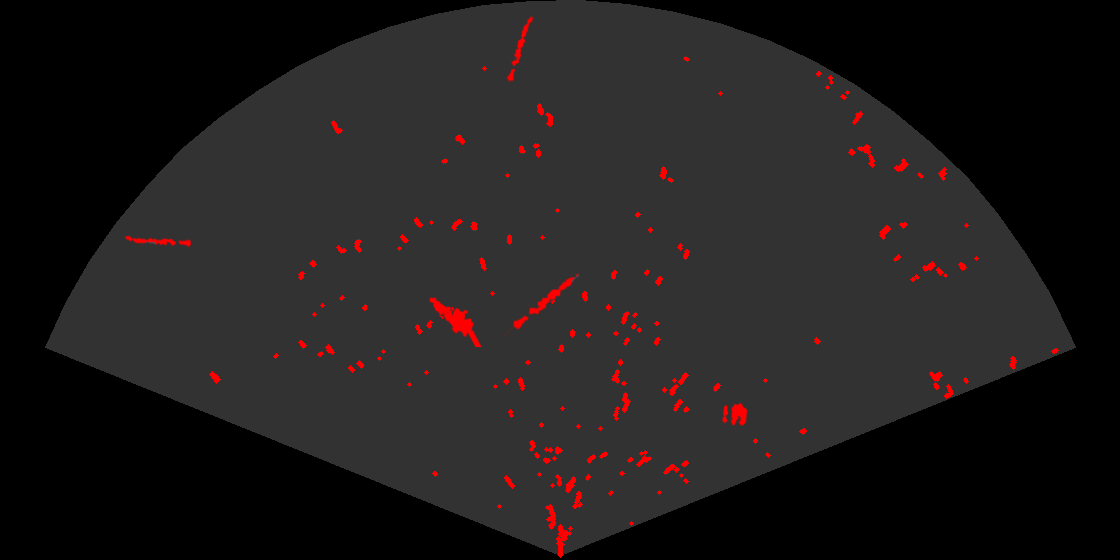ball: (721, 402, 749, 428)
chain: (501, 272, 580, 336), (505, 14, 535, 83), (123, 234, 191, 249)
frogman: (428, 295, 482, 347)
